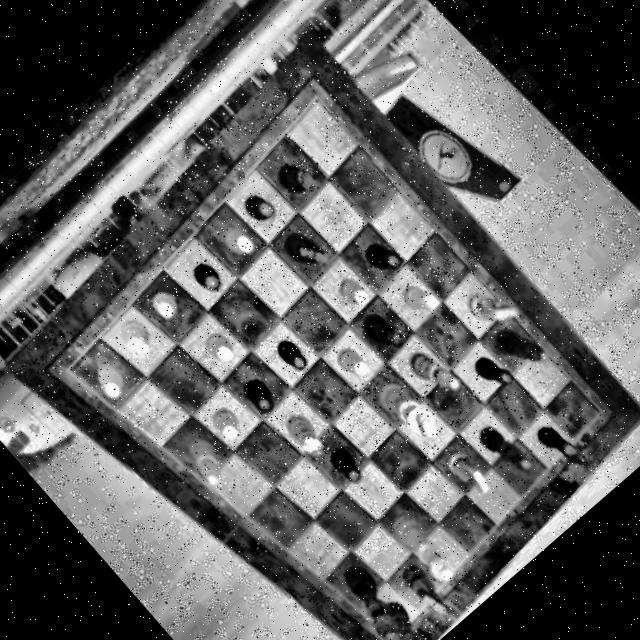black-bishop: (489, 308, 554, 376), (473, 414, 534, 478)
black-king: (327, 549, 416, 640)
black-knight: (396, 552, 454, 613), (282, 216, 335, 271)
black-pawn: (471, 344, 518, 393), (362, 228, 408, 274), (534, 416, 578, 462), (324, 436, 366, 480), (274, 327, 316, 370), (240, 364, 280, 406), (244, 178, 283, 218), (192, 249, 228, 286)
black-queen: (363, 584, 441, 640)
black-rook: (359, 299, 412, 352), (278, 144, 328, 196)
white-bishop: (403, 337, 462, 399), (178, 418, 235, 478)
white-king: (366, 361, 444, 443)
white-knight: (464, 271, 524, 333), (438, 437, 494, 496)
white-pawn: (398, 268, 444, 316), (87, 347, 132, 393), (220, 212, 262, 254), (206, 393, 247, 435), (332, 334, 373, 376), (335, 264, 375, 306), (205, 319, 242, 358), (148, 275, 185, 313)
white-queen: (382, 497, 463, 583)
white-rook: (281, 401, 331, 453), (113, 303, 162, 353)
